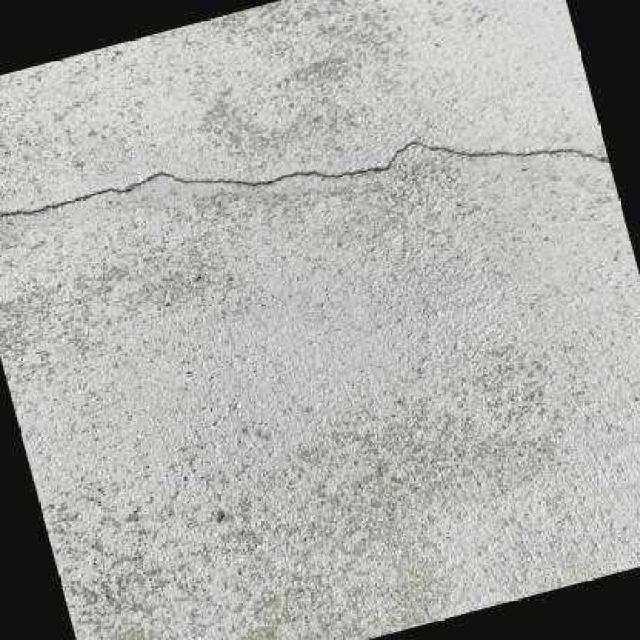D00: (0, 140, 609, 216)
